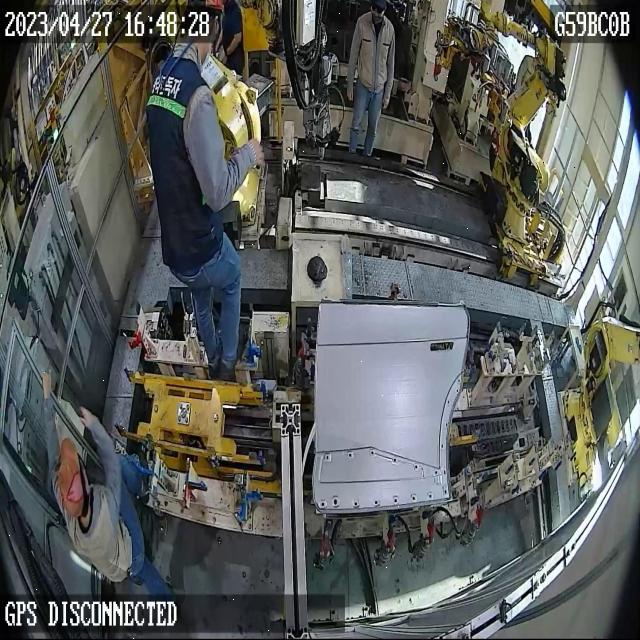Person: (144, 0, 265, 382), (41, 371, 176, 603), (346, 0, 396, 157), (214, 0, 244, 75)
